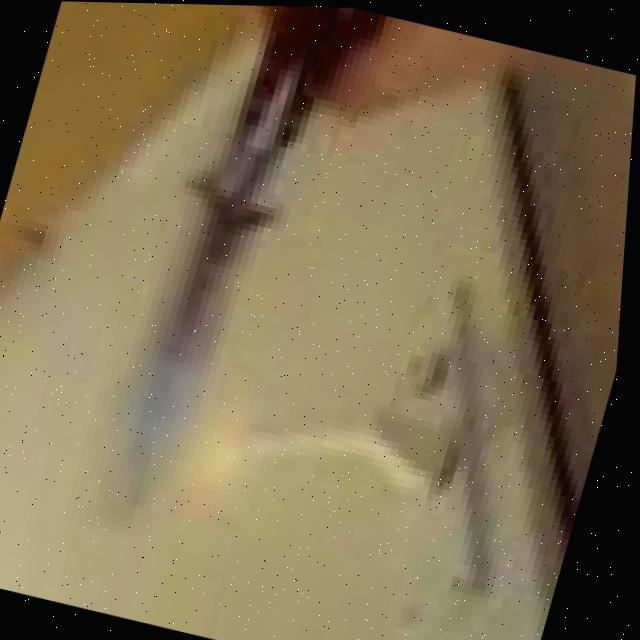knife: (73, 2, 379, 539)
